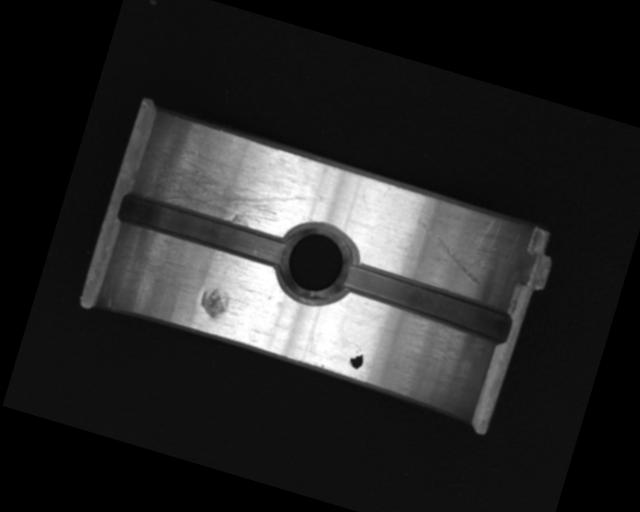blot: (347, 346, 366, 371)
bruise: (197, 284, 235, 322)
gap: (339, 260, 518, 348), (113, 187, 292, 272)
hole: (266, 213, 364, 315)
nick: (403, 217, 494, 287)
scratch: (138, 130, 314, 241)
